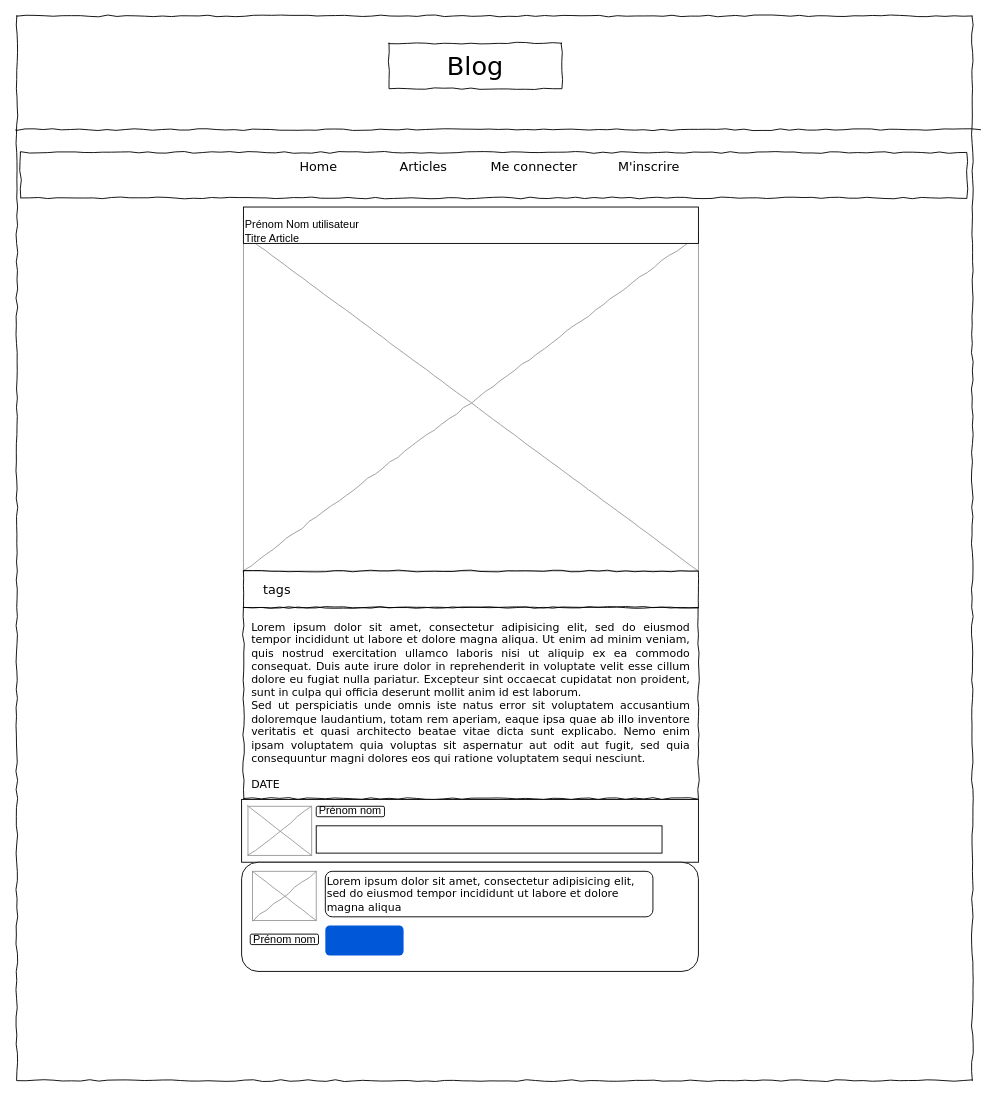
The diagram is 996 pixels wide and 1097 high, and some of its shapes have lost their labels. The centre of each missing label's shape, as x and y in pixels:
"Envoyer" belongs at (364,940).
"Lorem ipsum dolor sit amet, consectetur adipisicing elit, sed do eiusmod" belongs at (488,839).
